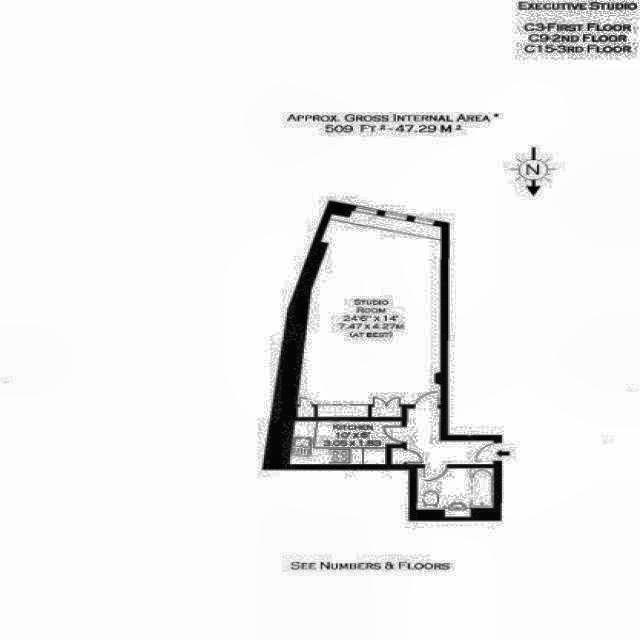room: (298, 208, 441, 418), (392, 408, 493, 464), (290, 421, 401, 465), (418, 469, 494, 508)
